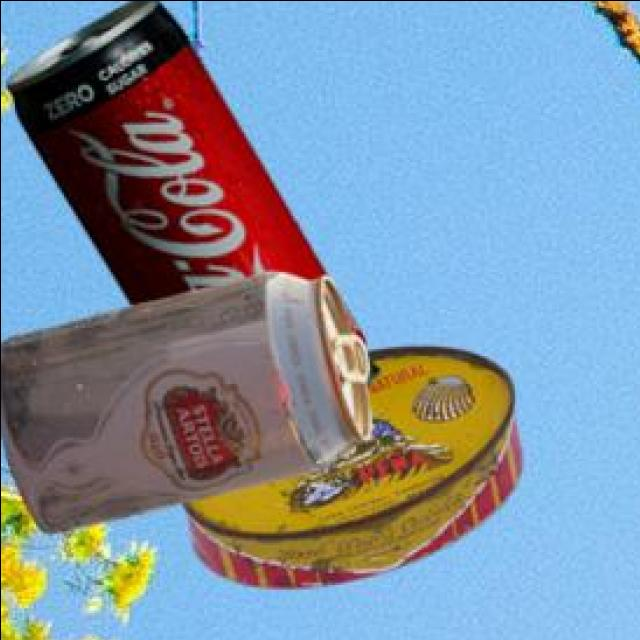logam: (11, 0, 382, 389), (0, 274, 375, 534), (186, 349, 524, 592)
